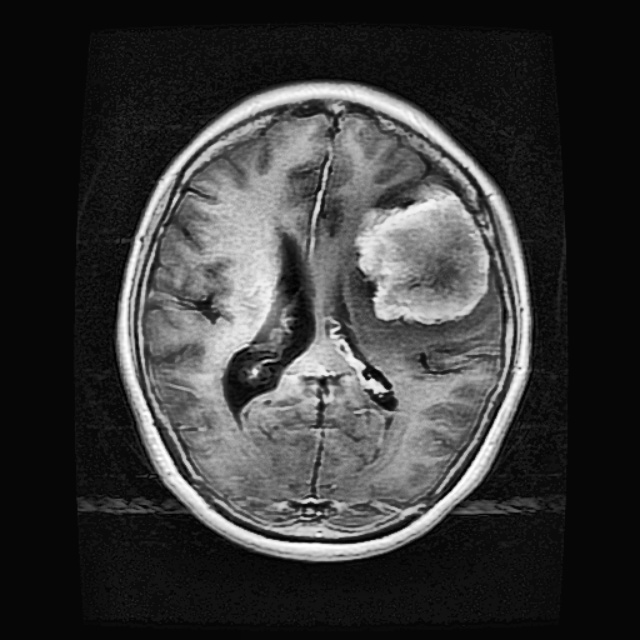Pituitary: (353, 182, 488, 320)
